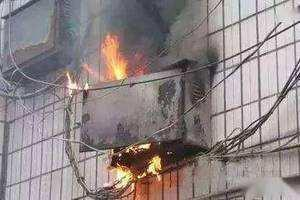fire: (102, 143, 163, 190), (85, 32, 128, 78)
